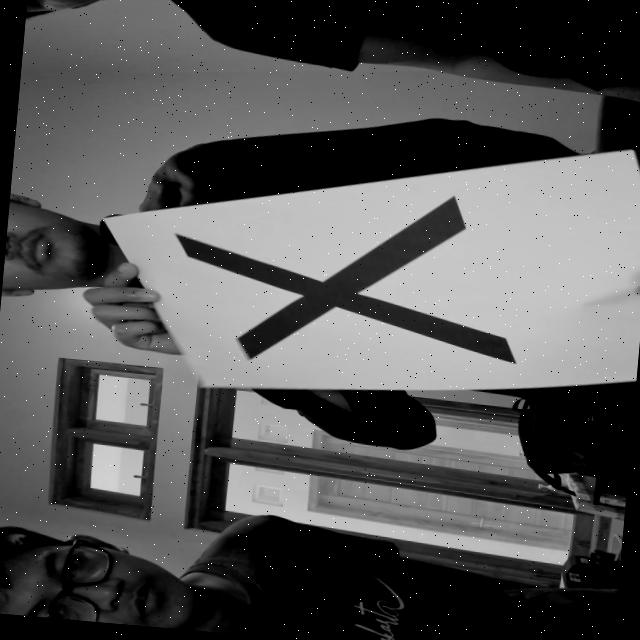x: (156, 161, 556, 389)
